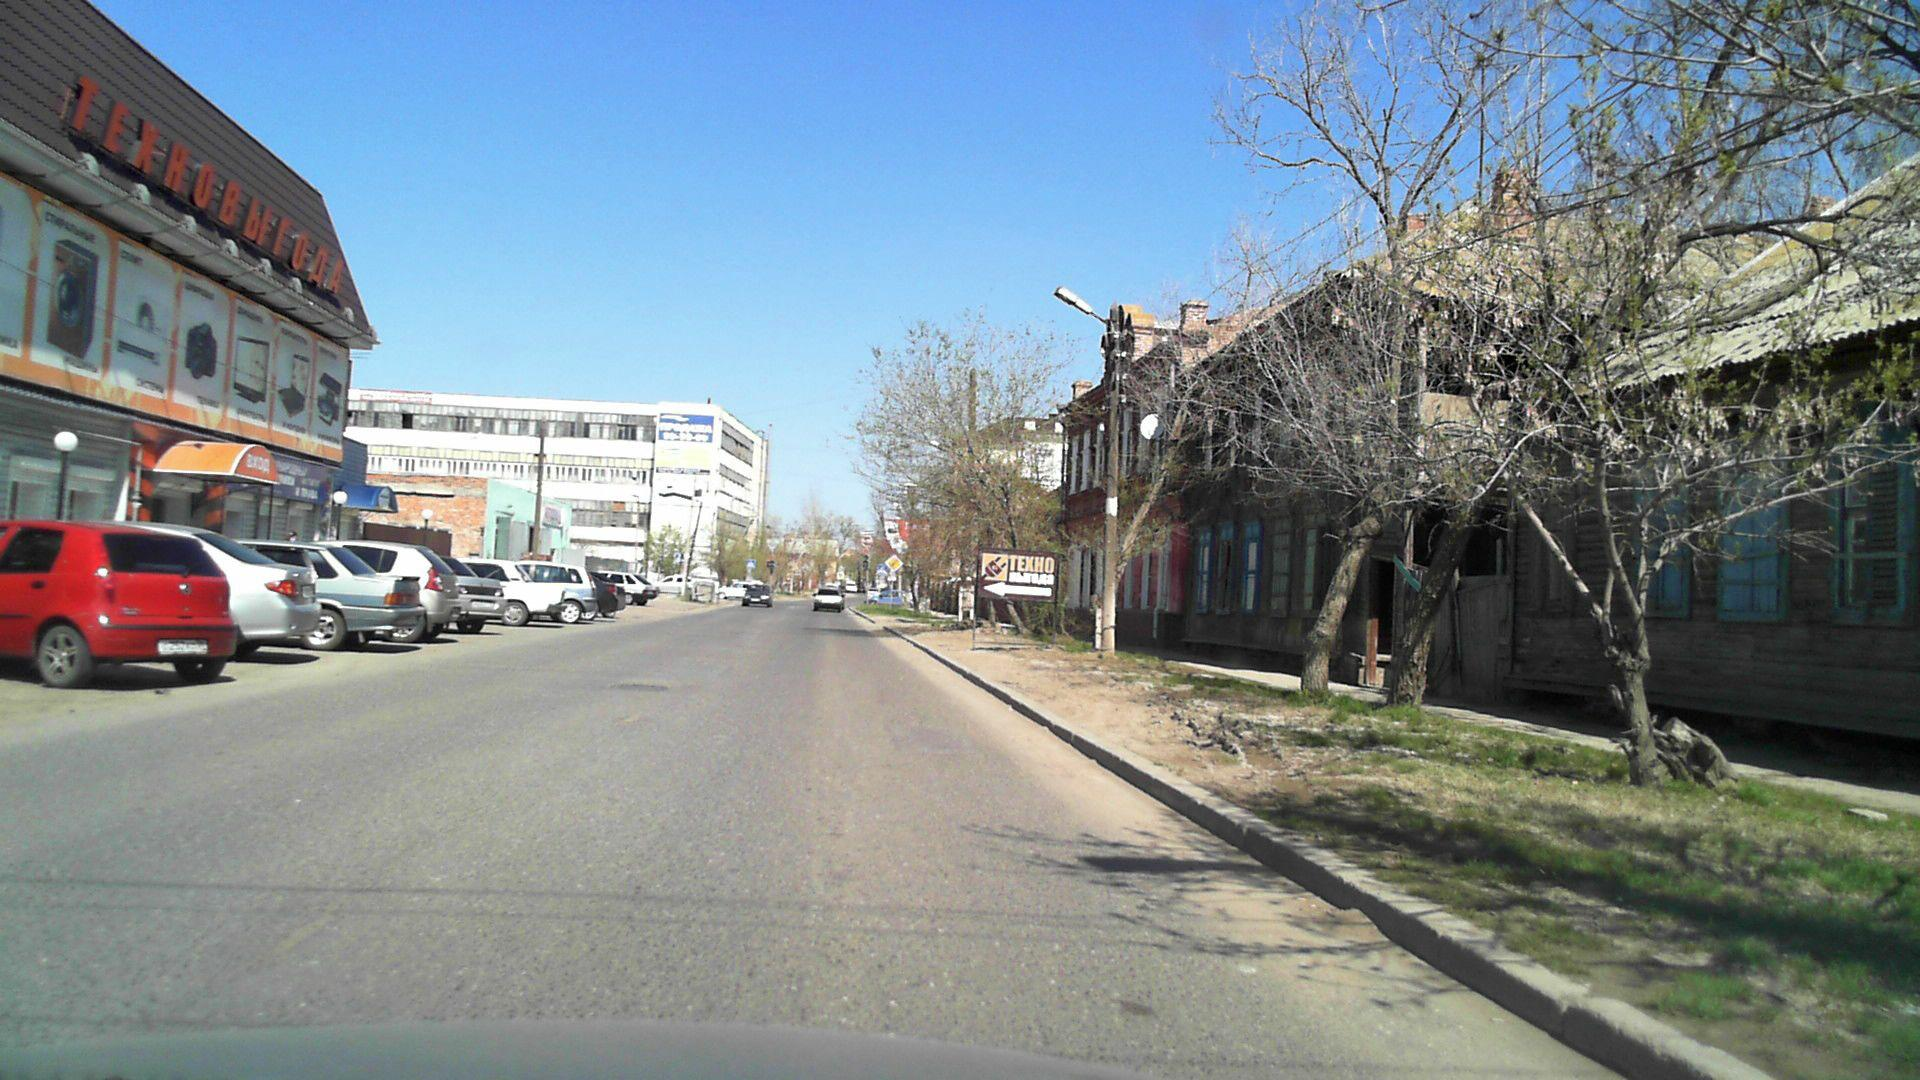2_2: (884, 553, 903, 571)
2_5: (861, 535, 874, 547)
5_19_1: (878, 564, 887, 575)
5_19_2: (746, 559, 756, 568)
5_7_2: (861, 530, 876, 535)
